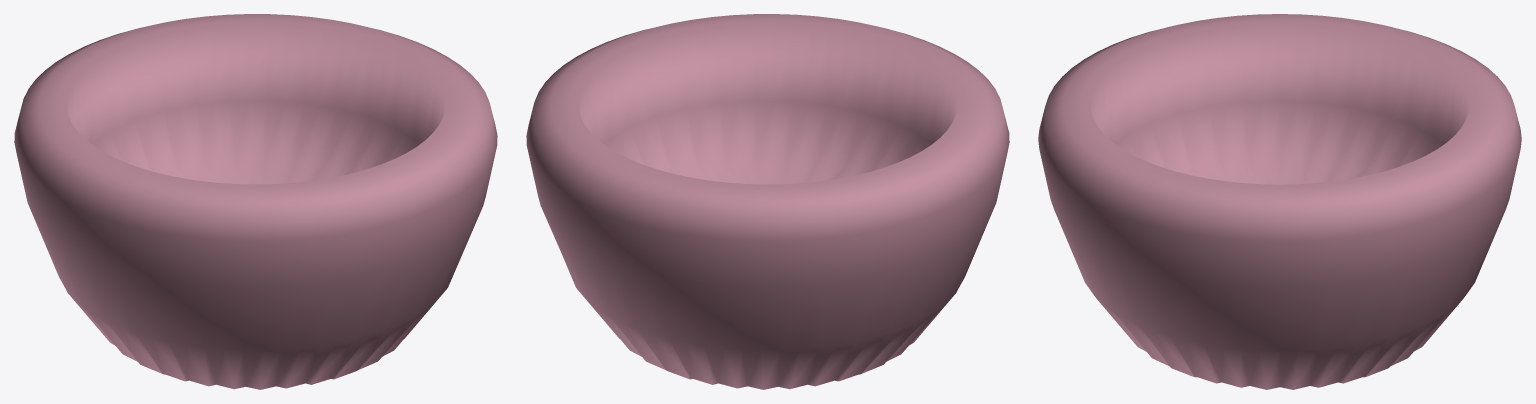
3 renders of one model, left to right at view 1: azimuth 30°, elevation 25°; view 2: azimuth 150°, elevation 25°; view 3: azimuth 270°, elevation 25°, orthographic.
Parts seen in each view (by area): view 1: Circle.005; view 2: Circle.005; view 3: Circle.005.
Part boxes in pixels (x1=…): Circle.005: x1=14, y1=14, x2=497, y2=389; Circle.005: x1=526, y1=14, x2=1009, y2=389; Circle.005: x1=1038, y1=14, x2=1521, y2=389.
Bounding box in the file's own units: 38.25 × 23.19 × 38.25.
